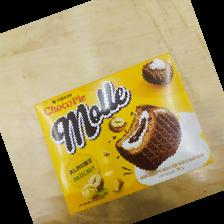Molle: (31, 50, 214, 217)
